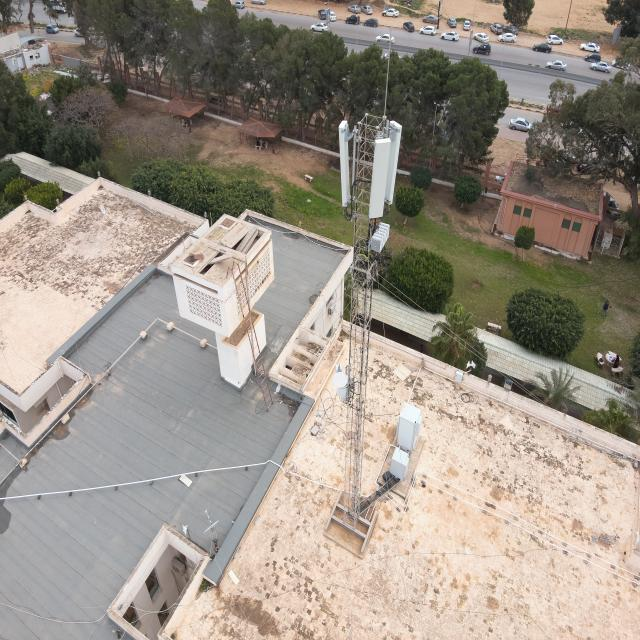antenna: (368, 137, 392, 221), (383, 119, 403, 208), (338, 120, 357, 208)
lighnig-rad: (383, 26, 393, 116)
microware-dish: (332, 361, 348, 388)
power-box: (337, 375, 349, 398)
radio-unit: (370, 222, 393, 253)
